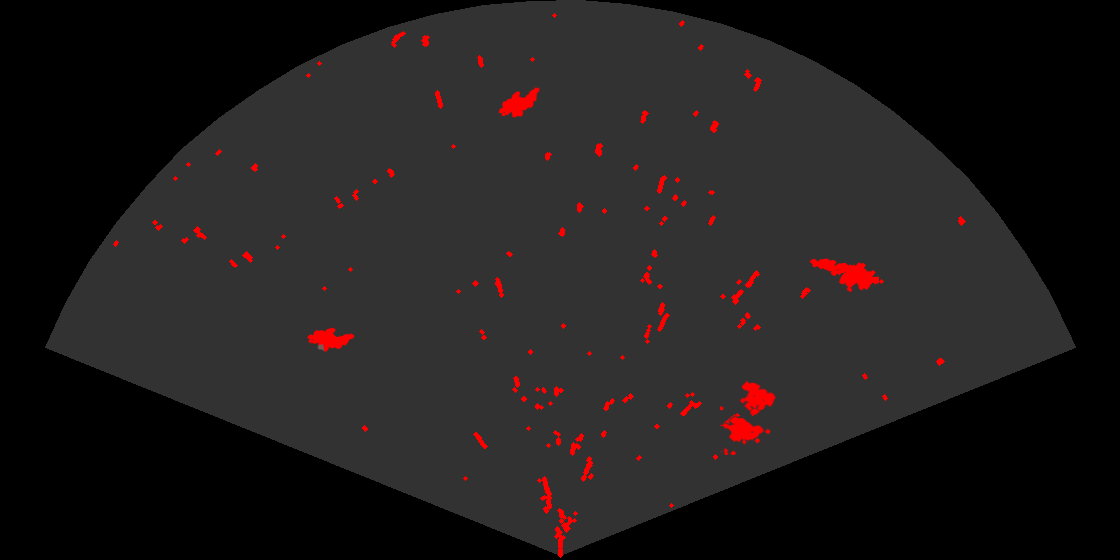AUV: (497, 86, 541, 119), (306, 326, 356, 353)
cage: (720, 379, 778, 455)
frogman: (808, 257, 879, 294)
